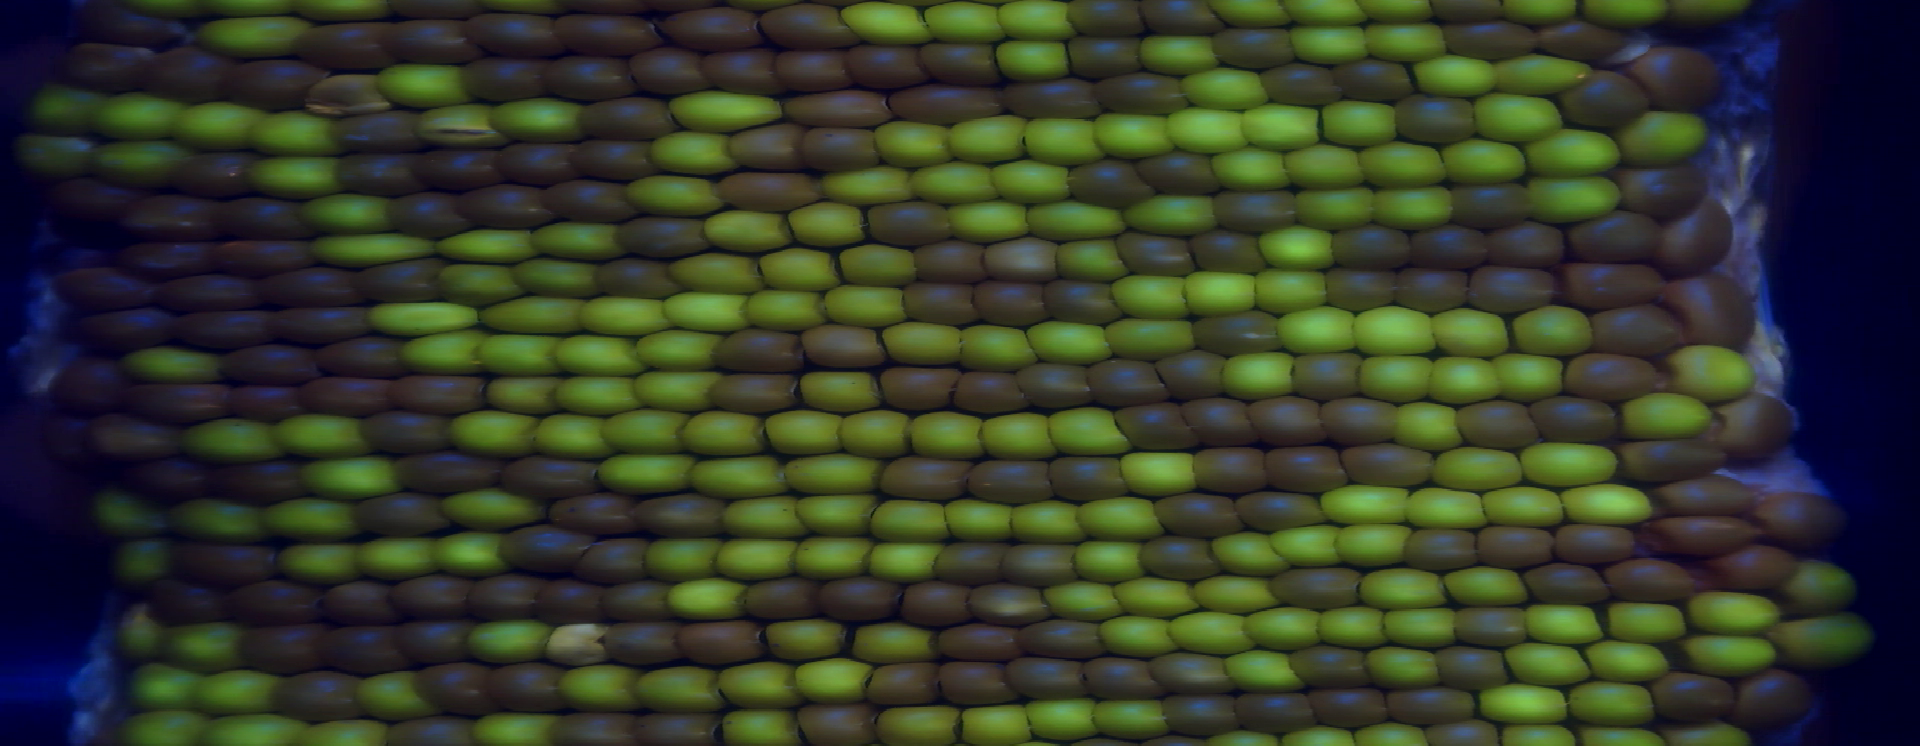fluorescent: (1622, 111, 1709, 167), (1527, 127, 1624, 176), (1778, 612, 1870, 664), (1474, 89, 1564, 142), (1669, 342, 1749, 399), (671, 92, 780, 134), (1358, 137, 1444, 190), (438, 488, 542, 530), (489, 98, 582, 146), (1690, 588, 1780, 637), (309, 232, 433, 267), (1526, 176, 1622, 222), (1523, 442, 1616, 488), (1025, 200, 1123, 243), (1498, 51, 1592, 96), (874, 120, 954, 171), (1681, 635, 1777, 677), (692, 458, 792, 499), (451, 410, 538, 457), (272, 415, 366, 458), (173, 499, 267, 541), (1516, 304, 1591, 358), (1444, 137, 1526, 186), (200, 16, 309, 53), (378, 64, 467, 109), (599, 453, 692, 496), (178, 419, 273, 461), (1022, 115, 1103, 164), (704, 211, 793, 255), (163, 620, 238, 673), (638, 325, 720, 372), (1354, 307, 1434, 356), (842, 1, 928, 47), (369, 303, 478, 338), (882, 320, 962, 367), (948, 114, 1026, 163), (1562, 481, 1649, 526), (414, 102, 503, 145), (478, 296, 584, 332), (1128, 194, 1213, 238), (250, 111, 333, 157), (1080, 499, 1163, 544), (97, 92, 178, 138), (909, 408, 983, 458), (661, 292, 748, 334), (1622, 394, 1709, 437), (1293, 187, 1378, 232), (1320, 100, 1396, 149), (122, 347, 220, 385), (1505, 642, 1587, 687), (1277, 307, 1359, 353), (579, 296, 671, 337), (302, 457, 394, 497), (180, 103, 260, 149), (959, 325, 1038, 371), (1048, 405, 1128, 452), (1527, 604, 1607, 650), (1333, 522, 1413, 568), (511, 258, 596, 301), (474, 333, 560, 376), (260, 500, 356, 538), (1570, 681, 1653, 725), (1433, 448, 1521, 490), (629, 176, 720, 217), (722, 661, 797, 710), (1254, 225, 1332, 272), (1392, 398, 1460, 452), (993, 157, 1069, 205), (798, 367, 880, 412), (464, 619, 546, 663), (910, 162, 999, 202), (1240, 104, 1320, 149), (823, 282, 902, 327), (296, 194, 388, 233), (1104, 320, 1196, 359), (763, 412, 840, 458), (556, 334, 639, 377), (1171, 107, 1245, 154), (793, 201, 864, 251), (982, 414, 1053, 464), (1093, 113, 1174, 157), (838, 243, 918, 287), (358, 537, 438, 581), (1483, 684, 1571, 724), (669, 252, 759, 292), (400, 332, 485, 374), (1108, 277, 1190, 320), (871, 497, 950, 541), (1179, 69, 1271, 107), (1209, 530, 1283, 577), (1138, 32, 1218, 75), (1485, 484, 1566, 527), (1433, 310, 1509, 355), (1358, 352, 1428, 401), (1493, 349, 1562, 398), (32, 81, 97, 134), (722, 495, 804, 537), (824, 164, 911, 203), (1172, 612, 1249, 657), (535, 412, 606, 459), (535, 220, 618, 261), (650, 131, 733, 171), (1374, 187, 1455, 229), (553, 372, 637, 413), (633, 371, 716, 412), (561, 665, 633, 712), (433, 232, 535, 265), (849, 622, 934, 661), (789, 456, 883, 491), (433, 261, 509, 305), (1787, 561, 1851, 612), (839, 409, 909, 457), (1608, 600, 1690, 641), (797, 495, 877, 537), (249, 156, 333, 195), (638, 668, 722, 707), (1322, 485, 1409, 523), (207, 712, 302, 746), (604, 410, 684, 451), (1030, 323, 1113, 363), (197, 670, 276, 712), (438, 527, 503, 577), (718, 538, 793, 581), (1118, 576, 1194, 619), (760, 247, 834, 292), (949, 202, 1029, 243), (358, 673, 425, 720), (1213, 147, 1291, 189), (669, 579, 746, 621), (1587, 639, 1664, 681), (877, 704, 961, 742), (1254, 267, 1329, 310), (688, 410, 763, 453), (1429, 355, 1498, 402), (276, 543, 356, 582), (1116, 452, 1194, 492), (924, 2, 1000, 44), (797, 660, 873, 702), (1287, 145, 1360, 187), (126, 664, 200, 707), (763, 621, 849, 658), (1224, 652, 1298, 695), (645, 537, 718, 579), (1245, 608, 1318, 650), (1223, 355, 1296, 398), (1411, 56, 1487, 97), (1194, 577, 1280, 612), (1368, 647, 1440, 688), (996, 40, 1071, 80), (792, 537, 868, 576), (1100, 616, 1173, 657), (961, 699, 1025, 746), (1011, 500, 1082, 541), (122, 712, 208, 746), (1408, 488, 1485, 526), (1071, 538, 1141, 579), (1367, 24, 1442, 62), (869, 541, 940, 582), (1054, 238, 1123, 279), (1000, 2, 1071, 42), (1318, 608, 1382, 650), (487, 377, 557, 416), (1188, 272, 1253, 314), (1293, 24, 1367, 61), (298, 715, 386, 746), (1272, 526, 1338, 566), (720, 710, 795, 746), (96, 492, 165, 530), (747, 294, 824, 328), (1029, 698, 1096, 737), (1382, 611, 1456, 647), (1092, 702, 1161, 740), (948, 501, 1011, 541), (1044, 582, 1119, 616), (470, 715, 551, 746), (118, 538, 171, 582), (116, 608, 160, 661), (1212, 2, 1289, 28), (1291, 1, 1368, 26)
nonfluorescent: (1671, 274, 1755, 347), (1658, 202, 1734, 276), (1640, 47, 1720, 111), (228, 60, 322, 115), (53, 176, 137, 236), (1758, 488, 1843, 548), (1562, 71, 1651, 127), (414, 657, 491, 720), (231, 620, 324, 673), (1468, 262, 1561, 315), (62, 42, 153, 96), (1614, 165, 1704, 219), (883, 85, 1005, 124), (1591, 307, 1681, 360), (272, 669, 358, 724), (1656, 668, 1738, 725), (1562, 262, 1667, 307), (171, 541, 278, 586), (394, 447, 501, 491), (148, 47, 228, 105), (1712, 397, 1787, 459), (558, 12, 662, 56), (293, 23, 386, 72), (350, 492, 444, 540), (261, 267, 360, 312), (500, 523, 587, 575), (48, 359, 124, 418), (1618, 441, 1728, 481), (1340, 441, 1433, 489), (82, 303, 178, 349), (1453, 401, 1544, 450), (211, 234, 313, 277), (632, 494, 729, 539), (1569, 213, 1658, 262), (1000, 78, 1100, 122), (223, 581, 323, 624), (501, 456, 604, 497), (1262, 445, 1349, 494), (217, 342, 318, 383), (1649, 514, 1757, 554), (125, 197, 218, 243), (1565, 352, 1658, 397), (471, 10, 560, 58), (760, 2, 849, 50), (355, 410, 451, 454), (1660, 475, 1758, 518), (1179, 394, 1255, 450), (122, 387, 233, 425), (662, 9, 763, 50), (154, 271, 255, 312), (784, 87, 887, 127), (1393, 97, 1478, 146), (323, 627, 405, 677), (538, 180, 628, 225), (87, 415, 178, 461), (594, 257, 687, 301), (164, 153, 253, 198), (1067, 160, 1153, 207), (125, 457, 212, 503), (304, 375, 394, 419), (218, 194, 304, 240), (1713, 543, 1794, 592), (414, 149, 503, 194), (216, 459, 305, 503), (549, 492, 636, 538), (1329, 223, 1411, 271), (1113, 404, 1195, 452), (1738, 671, 1809, 726), (388, 194, 468, 243), (1195, 312, 1283, 356), (1237, 488, 1327, 530), (493, 660, 561, 718), (722, 124, 806, 170), (969, 457, 1052, 503), (1289, 644, 1370, 692), (386, 20, 475, 62), (800, 323, 882, 370), (50, 269, 151, 307), (707, 376, 801, 416), (1153, 492, 1239, 537), (1140, 535, 1217, 584), (1015, 619, 1103, 661), (268, 305, 371, 342), (1536, 394, 1616, 441), (1608, 562, 1695, 605), (818, 577, 900, 622), (920, 43, 999, 89), (878, 363, 958, 409), (1324, 266, 1397, 316), (627, 48, 704, 96), (1098, 72, 1184, 115), (1474, 526, 1553, 572), (1411, 222, 1487, 269), (849, 44, 924, 92), (719, 330, 803, 372), (178, 310, 264, 352), (602, 624, 684, 668), (1269, 567, 1358, 608), (1550, 524, 1640, 565), (1528, 562, 1608, 608), (1118, 227, 1191, 276), (1247, 397, 1324, 443), (601, 577, 678, 624), (542, 60, 628, 102), (1140, 149, 1215, 197), (338, 146, 413, 194), (391, 376, 491, 412), (1213, 189, 1294, 233), (1490, 224, 1569, 269), (318, 338, 405, 379), (1320, 397, 1393, 445), (1449, 183, 1528, 227), (1539, 18, 1619, 62), (392, 576, 469, 621), (798, 699, 873, 746), (468, 572, 542, 619), (883, 461, 969, 501), (1449, 608, 1529, 650), (1262, 62, 1341, 107), (356, 261, 444, 300), (321, 579, 389, 630), (1216, 23, 1292, 69), (1019, 363, 1095, 408), (1193, 225, 1262, 274), (149, 577, 223, 624), (1149, 652, 1228, 695), (620, 218, 707, 257), (1451, 18, 1538, 58), (465, 58, 542, 102), (1091, 363, 1168, 407), (1236, 691, 1316, 733), (1086, 658, 1158, 704), (716, 175, 822, 207), (1043, 278, 1119, 322), (868, 661, 938, 709), (698, 47, 771, 92), (1311, 687, 1389, 730), (498, 140, 576, 183), (971, 282, 1043, 327), (1338, 60, 1417, 102), (334, 107, 418, 146), (460, 186, 544, 225), (309, 73, 384, 116), (806, 127, 879, 171), (1051, 454, 1124, 499), (869, 202, 949, 243), (1007, 658, 1086, 698), (580, 99, 665, 137), (776, 49, 851, 92), (1389, 687, 1472, 725), (902, 283, 973, 327), (909, 241, 988, 281), (970, 581, 1047, 621), (901, 582, 970, 627), (1168, 697, 1240, 740), (1068, 34, 1138, 78), (956, 367, 1026, 412), (122, 239, 203, 277), (1404, 528, 1478, 570), (937, 626, 1020, 663), (573, 137, 647, 179), (1195, 447, 1262, 492), (1397, 269, 1469, 311), (939, 661, 1011, 703), (1163, 349, 1226, 397), (399, 620, 470, 661), (550, 712, 636, 746), (744, 577, 817, 617), (230, 383, 304, 423), (1293, 352, 1358, 396), (577, 538, 645, 579), (1000, 548, 1075, 586), (988, 240, 1054, 282), (539, 582, 605, 624), (1145, 1, 1223, 36), (934, 541, 1000, 582), (636, 710, 707, 746), (1070, 5, 1145, 38), (1438, 646, 1487, 691), (547, 624, 600, 665), (388, 719, 465, 746)
